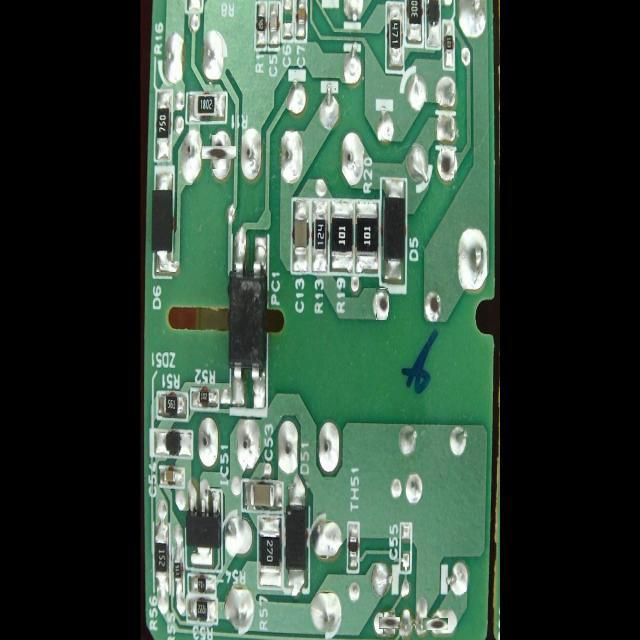damged: (207, 140, 231, 164), (426, 290, 442, 322), (440, 148, 454, 178), (376, 288, 388, 320), (426, 614, 445, 634), (381, 614, 398, 632)
